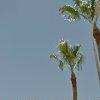Palm tree: (45, 31, 94, 97)
